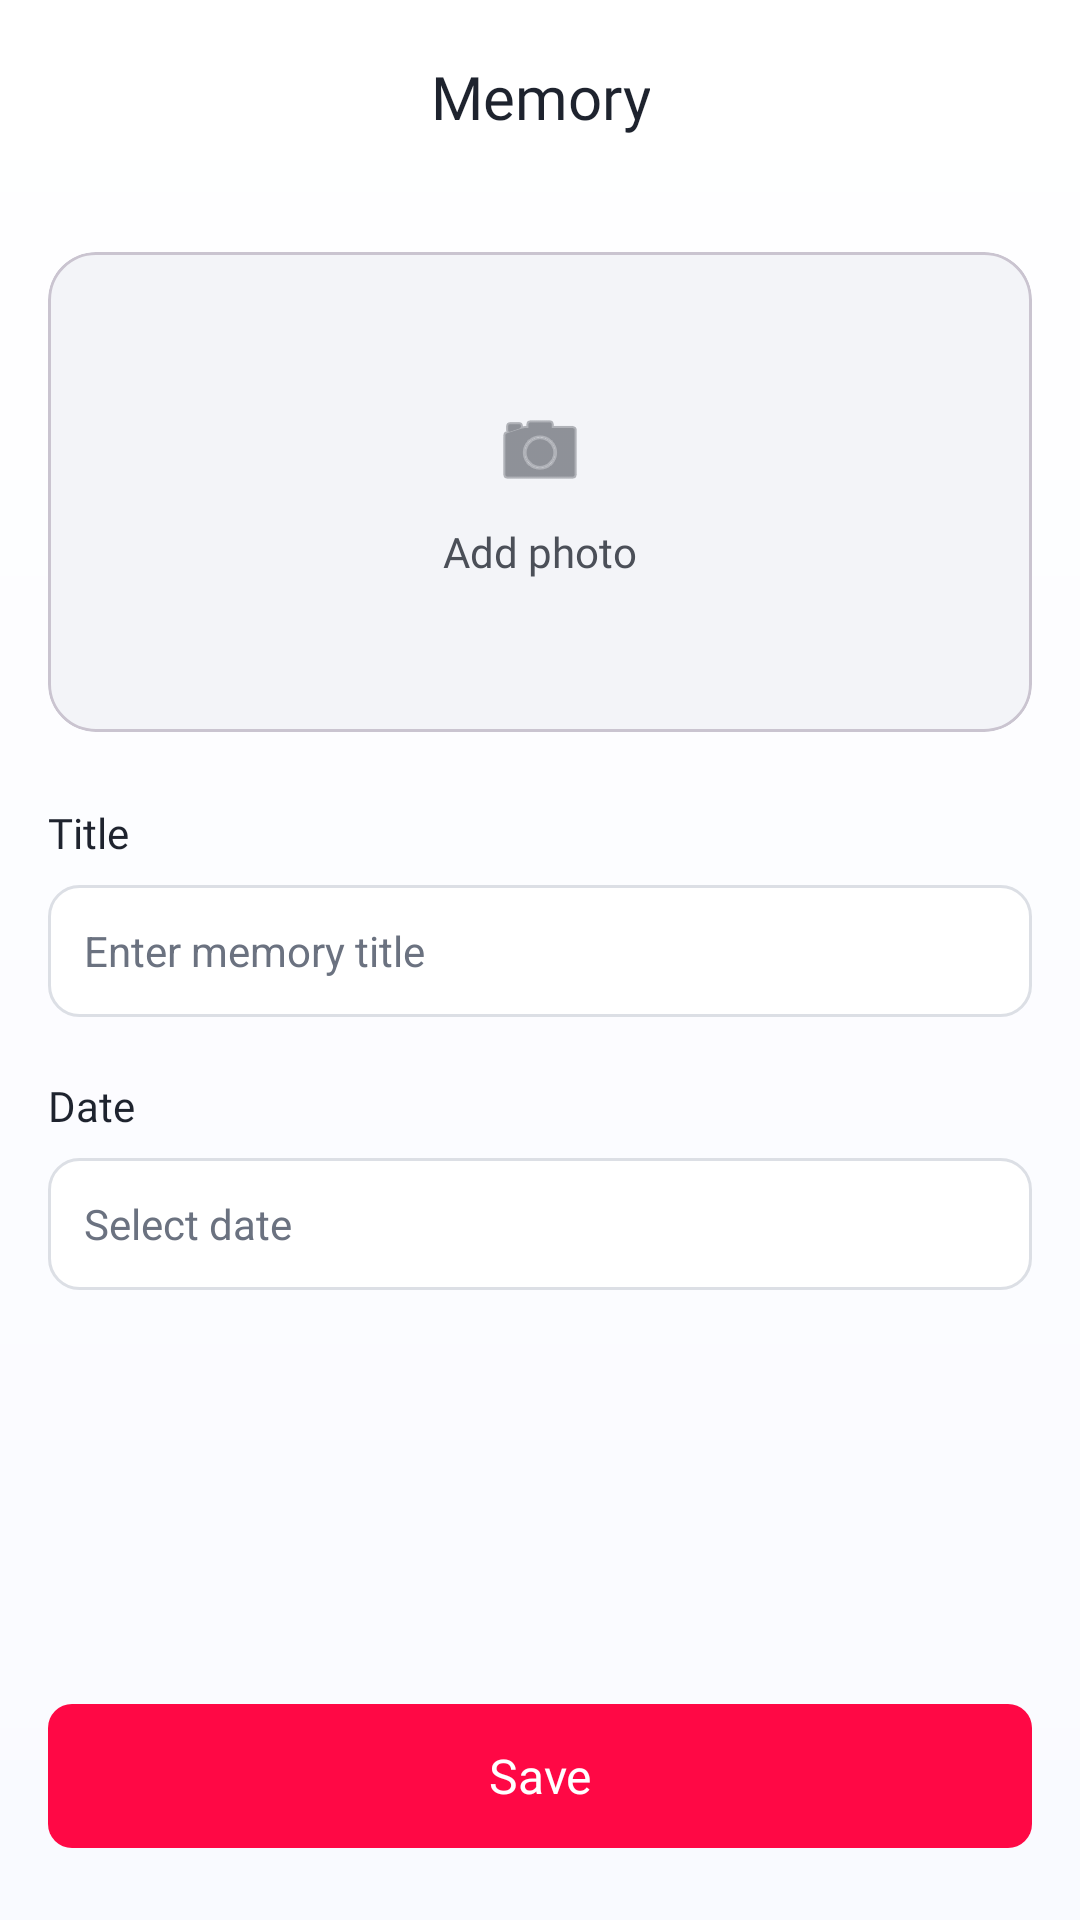

Screen size 1080*1920. Icon name, then its box in pixels as (x1, y1, x2, y2):
camera: (503, 420, 577, 479)
